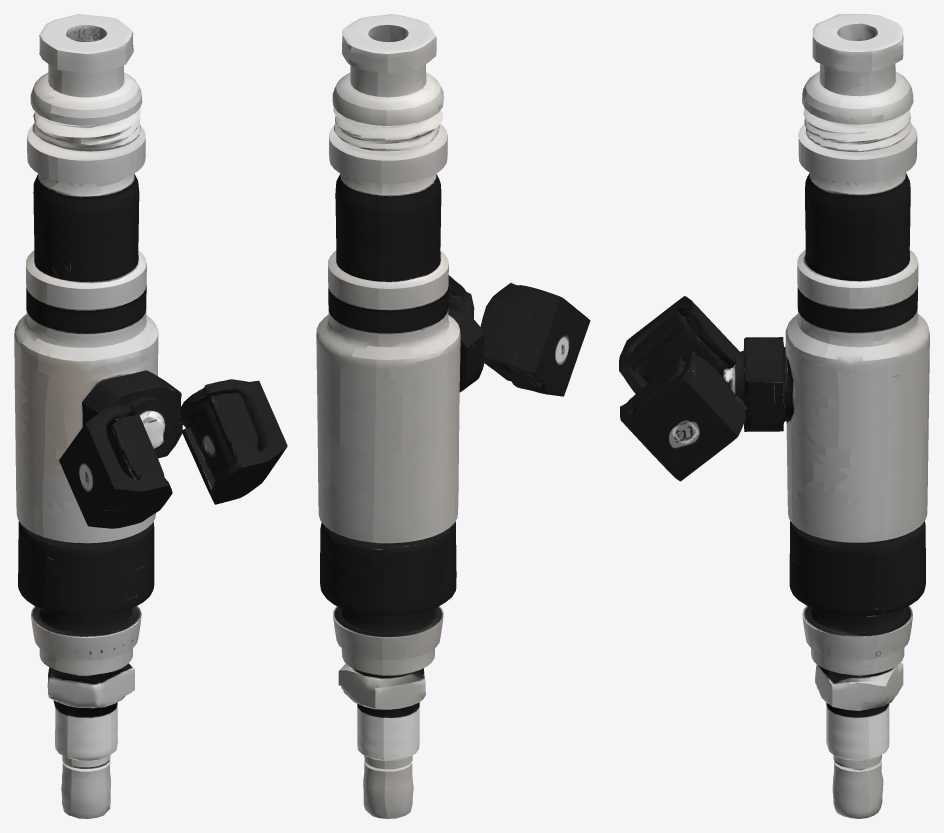
The model's file is injector-gdi.glb.
3 renders of one model, left to right at view 1: azimuth 30°, elevation 25°; view 2: azimuth 150°, elevation 25°; view 3: azimuth 270°, elevation 25°, orthographic.
Size of the model in its own units: 0.4457 by 1.9 by 0.6884.
Materials: 1 (1 with a texture image).
